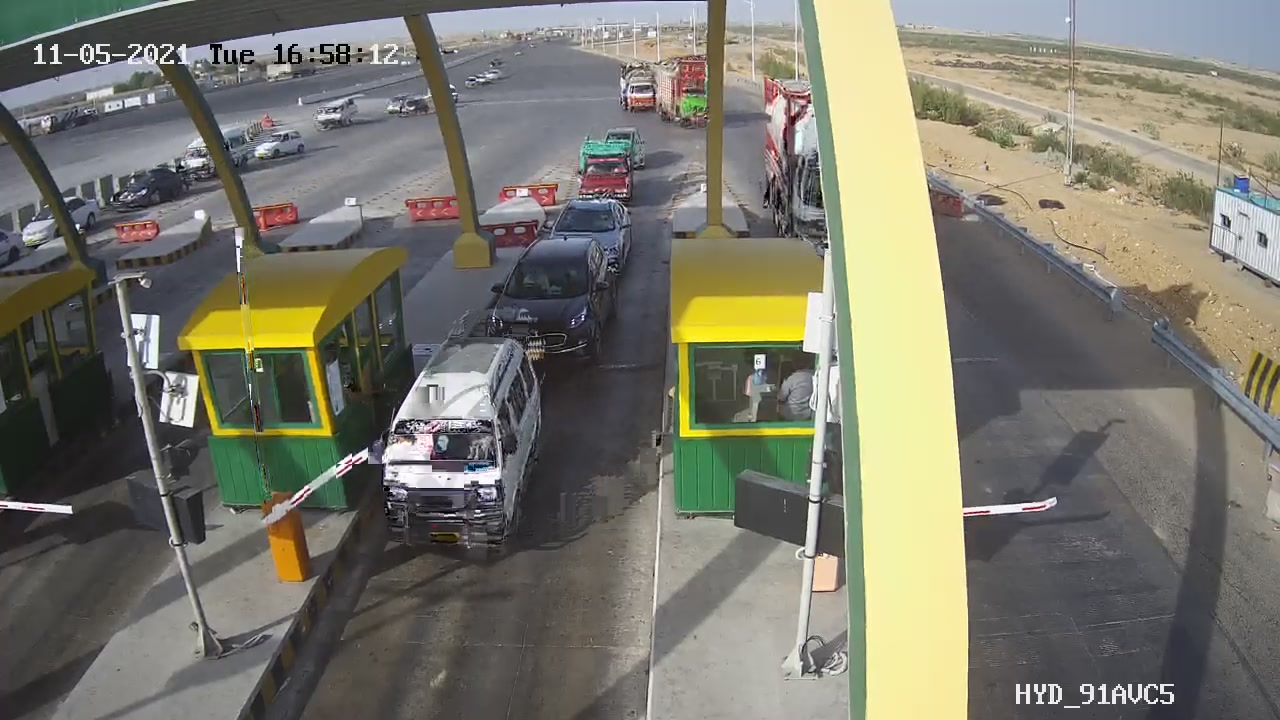F1: (475, 229, 629, 377)
